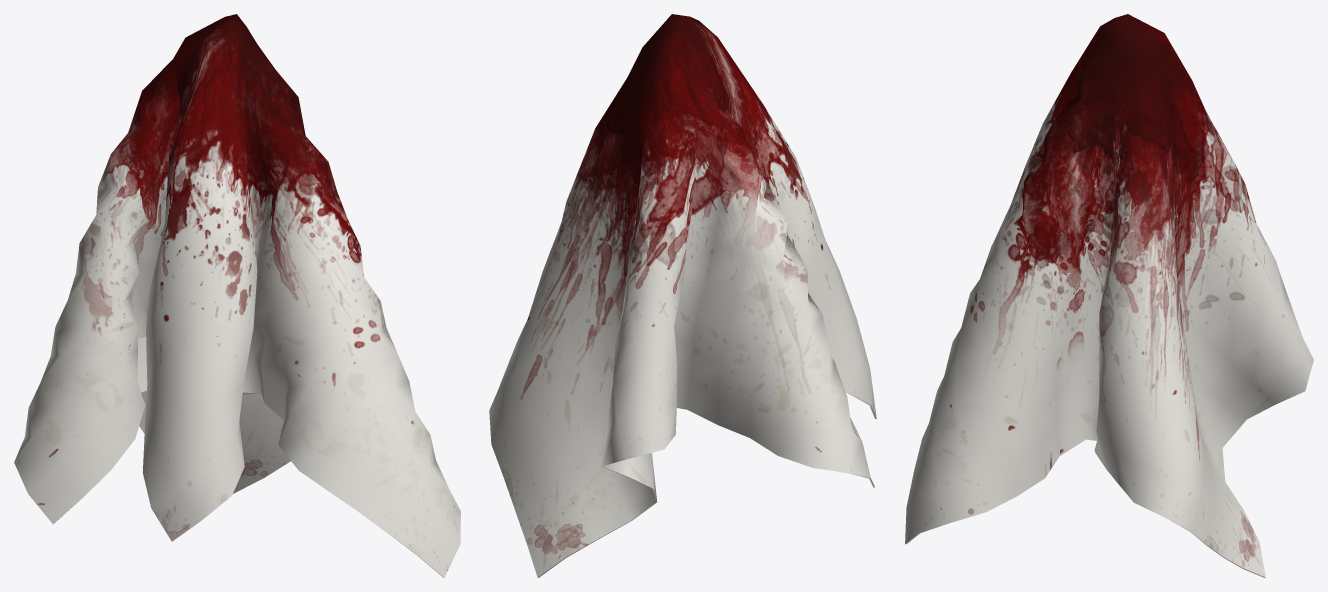
File: Clue_BloodRag.fbx
3 views of the same model, side by side, from view 1: azimuth 30°, elevation 25°; view 2: azimuth 150°, elevation 25°; view 3: azimuth 270°, elevation 25° (orthographic). The views are drawn at different scales.
Visible parts, largest first — view 1: Clue_BloodRag:pPlane1; view 2: Clue_BloodRag:pPlane1; view 3: Clue_BloodRag:pPlane1.
Part boxes in pixels (box(x1,y1,x2,y2)): Clue_BloodRag:pPlane1: box(14, 14, 460, 577); Clue_BloodRag:pPlane1: box(489, 14, 876, 577); Clue_BloodRag:pPlane1: box(905, 14, 1313, 577).
Size of the model in its own units: 2.61 by 3.63 by 2.55.
